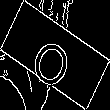O_NE: (29, 22, 81, 88)
